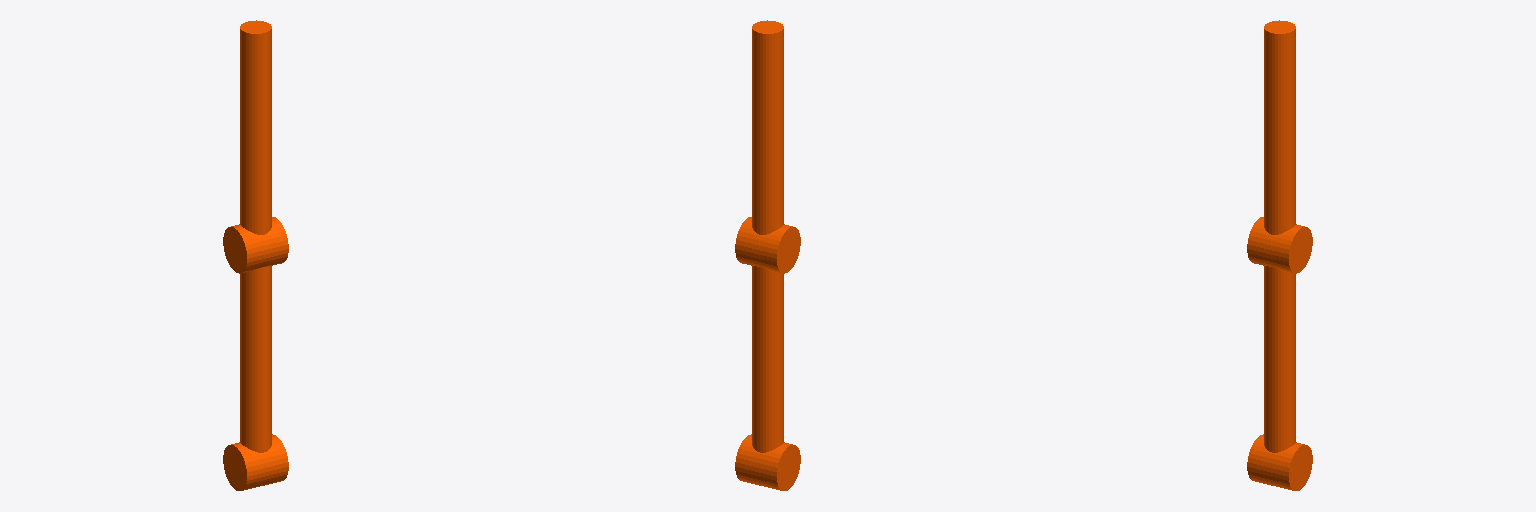
robot.urdf — Chaser:
<?xml version="1.0" ?>
<robot name="Chaser">
  <material name="Grey">
    <color rgba="0.2 0.2 0.2 1.0"/>
  </material>
  <material name="Orange">
    <color rgba="1.0 0.423529411765 0.0392156862745 1.0"/>
  </material>
  <material name="Blue">
  <color rgba="0.5 0.7 1.0 1.0"/>      
  </material>
  <material name="Red">
    <color rgba="1 0 0 1.0"/>      
  </material>

  <link name='base_link'/>

  <joint name="Joint_1" type="continuous">
    <parent link="base_link"/>
    <child link="Link_1"/>
    <origin rpy="0 0 0" xyz="0 0 0.0"/>
    <axis xyz="1 0 0"/>
  </joint>

  <link name="Link_1">
    <inertial>
      <origin rpy="0 0 0" xyz="0 0 0.0"/>
      <mass value="10"/>
      <inertia ixx="0.1" ixy="0" ixz="0" iyy="0.1" iyz="0" izz="0.1"/>
    </inertial>
    <visual>
      <origin rpy="0 0 0" xyz="0 0 0.375"/>
      <geometry>
        <cylinder radius="0.05" length="0.75"/>
      </geometry>
      <material name="Orange"/>
    </visual>

    <collision>
      <origin rpy="0 0 0" xyz="0 0 0.375"/>
      <geometry>
        <cylinder radius="0.05" length="0.75"/>
      </geometry>
    </collision>

    <visual>
      <origin rpy="0 1.5708 0" xyz="0 0 0"/>
      <geometry>
        <cylinder radius="0.075" length="0.15"/>
      </geometry>
      <material name="Orange"/>
    </visual>

    <collision>
      <origin rpy="0 1.5708 0" xyz="0 0 0"/>
      <geometry>
        <cylinder radius="0.075" length="0.15"/>
      </geometry>
    </collision>
  </link>

  <joint name="Joint_2" type="continuous">
    <parent link="Link_1"/>
    <child link="Link_2"/>
    <origin rpy="0 0 0" xyz="0 0 0.75"/>
    <axis xyz="1 0 0"/>
  </joint>

  <link name="Link_2">
    <inertial>
      <origin rpy="0 0 0" xyz="0 0 0.375"/>
      <mass value="10"/>
      <inertia ixx="0.1" ixy="0" ixz="0" iyy="0.1" iyz="0" izz="0.1"/>
    </inertial>

    <visual>
      <origin rpy="0 0 0" xyz="0 0 0.375"/>
      <geometry>
        <cylinder radius="0.05" length="0.75"/>
      </geometry>
      <material name="Orange"/>
    </visual>

    <collision>
      <origin rpy="0 0 0" xyz="0 0 0.375"/>
      <geometry>
        <cylinder radius="0.05" length="0.75"/>
      </geometry>
    </collision>

    <visual>
      <origin rpy="0 1.5708 0" xyz="0 0 0"/>
      <geometry>
        <cylinder radius="0.075" length="0.15"/>
      </geometry>
      <material name="Orange"/>
    </visual>

    <collision>
      <origin rpy="0 1.5708 0" xyz="0 0 0"/>
      <geometry>
        <cylinder radius="0.075" length="0.15"/>
      </geometry>
    </collision>
  </link>
</robot>

--- What the picture shows (computed from the rendered views, not written in the file) ---
The picture shows the robot from 3 angles, left to right: view 1: azimuth 30°, elevation 25°; view 2: azimuth 150°, elevation 25°; view 3: azimuth 330°, elevation 25°; orthographic projection.
Model Chaser with 3 links and 2 joints (2 continuous), rooted at base_link, posed all joints at 0.
Visible links, largest first — view 1: Link_2, Link_1; view 2: Link_2, Link_1; view 3: Link_2, Link_1.
Link boxes in pixels (x1,y1,x2,y2): Link_2: [223, 20, 288, 273]; Link_1: [223, 266, 288, 490]; Link_2: [735, 20, 800, 273]; Link_1: [735, 266, 800, 490]; Link_2: [1247, 20, 1312, 273]; Link_1: [1247, 266, 1312, 490].
Size in the robot's own frame: 0.15 by 0.15 by 1.57 metres.
Geometry: primitives only (box / cylinder / sphere), no mesh files.